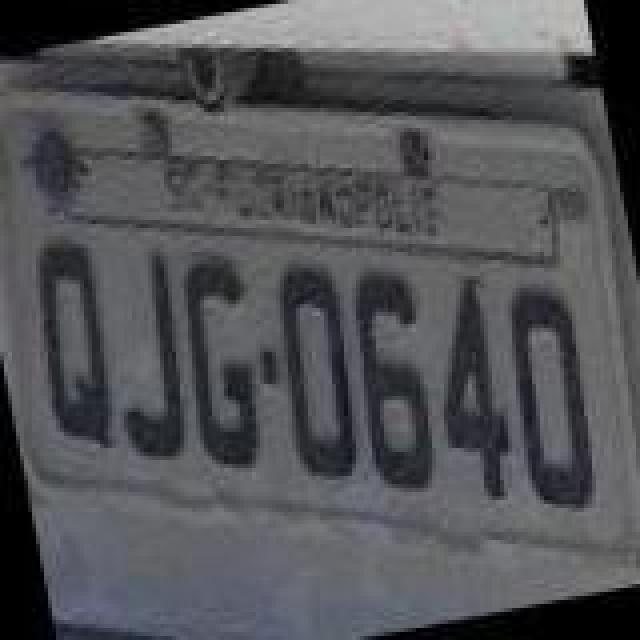4: (414, 274, 522, 510)
6: (334, 266, 450, 502)
G: (168, 252, 280, 476)
J: (92, 246, 204, 466)
O: (494, 280, 610, 520), (260, 258, 372, 486)
Q: (16, 234, 128, 462)
